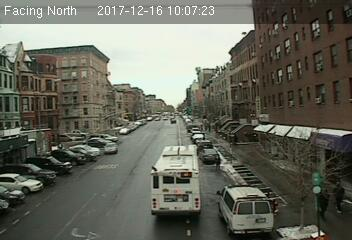bus: (150, 145, 202, 218)
car: (201, 148, 217, 162), (103, 141, 117, 153)
pedestrian: (332, 179, 348, 218), (316, 186, 329, 229)
police: (214, 181, 273, 237)
